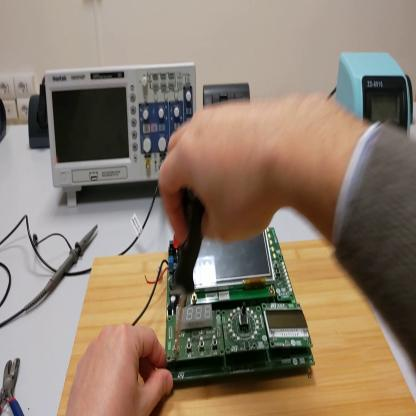hand: (160, 101, 283, 247), (67, 320, 173, 414)
low voltage board: (133, 230, 315, 386)
oscilloscope: (44, 63, 197, 207)
oscilloscope probe tip: (27, 225, 97, 309)
pliers: (2, 359, 24, 415)
screwdriver-: (167, 193, 203, 371)
socket: (30, 96, 52, 149), (2, 101, 8, 148)
welder station: (337, 50, 411, 138)
working area: (59, 242, 416, 416)
